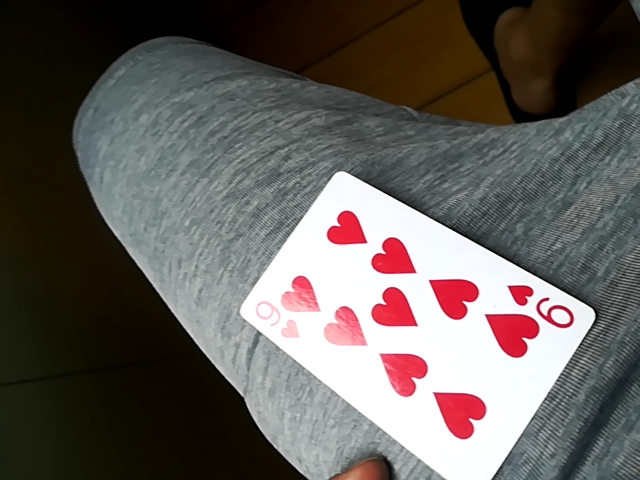hx 9: (237, 167, 598, 477)
